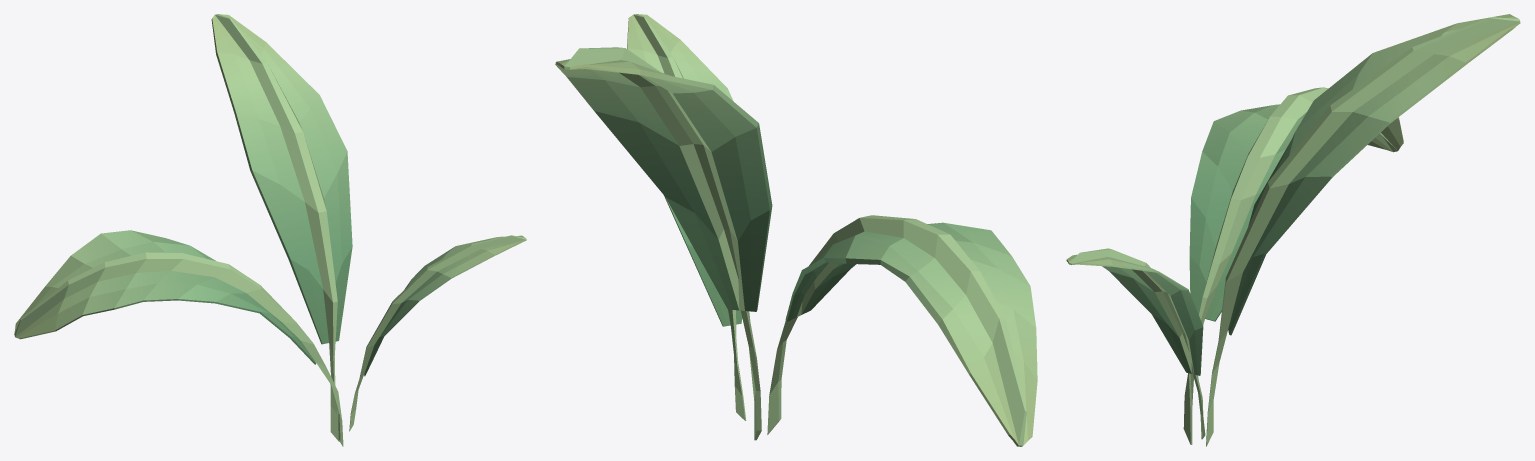
Rendered from Leaves_light.fbx.
The picture shows the model from 3 angles, left to right: view 1: azimuth 30°, elevation 25°; view 2: azimuth 150°, elevation 25°; view 3: azimuth 270°, elevation 25°; orthographic projection. The views are drawn at different scales.
Visible parts, largest first — view 1: Leaves_light; view 2: Leaves_light; view 3: Leaves_light.
Boxes of the visible parts, x1,y1,x2,y2 form: Leaves_light: [14, 14, 526, 446]; Leaves_light: [555, 14, 1037, 446]; Leaves_light: [1066, 14, 1520, 446].
Size of the model in its own units: 45.68 by 38.52 by 36.8.
